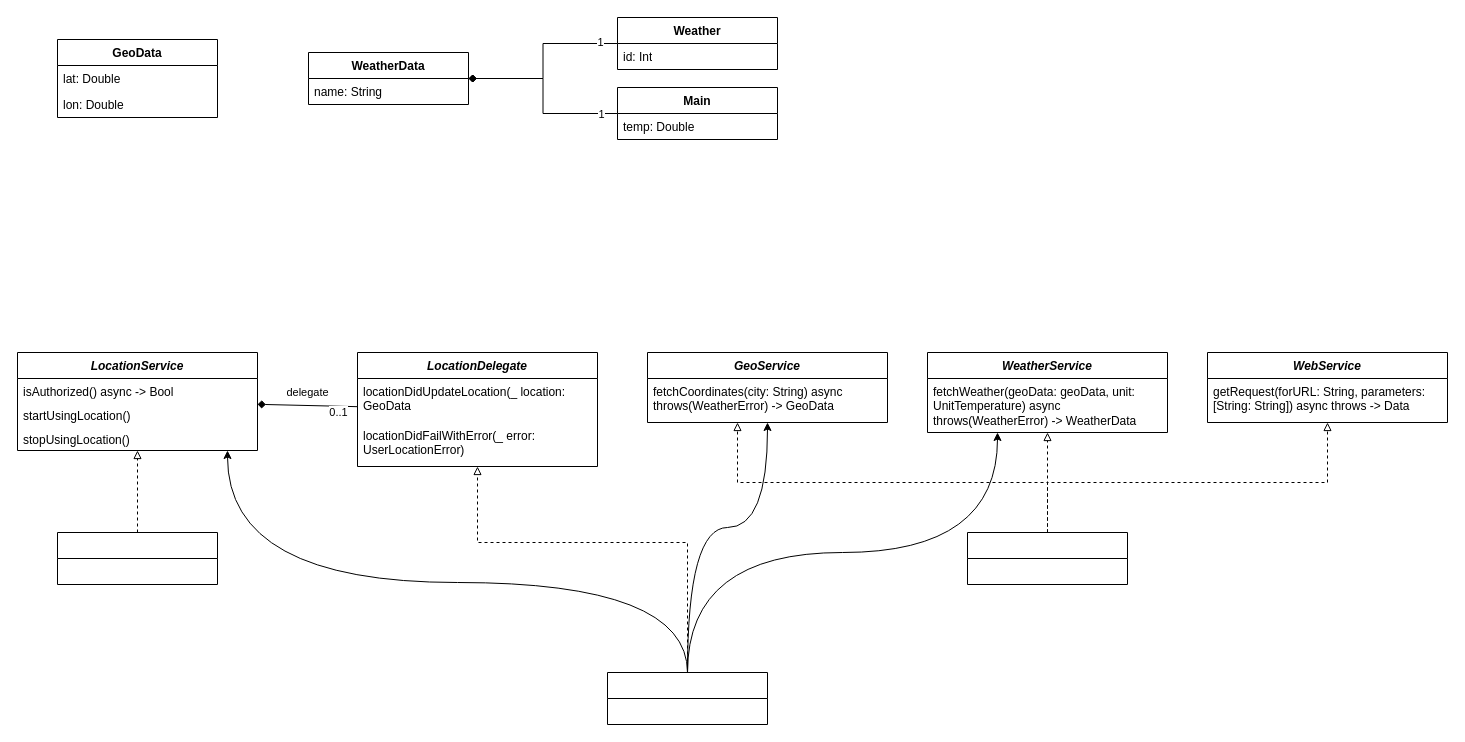
Image size: 1465x742. Some labels were removed from this diagram. The shapes that lost their labels are listed below. From the top down, each one's centre as x and y in pixels, then its label:
At point 137,558: "UserLocationService".
At point 1047,558: "OpenWeatherService".
At point 687,698: "ViewModel".
